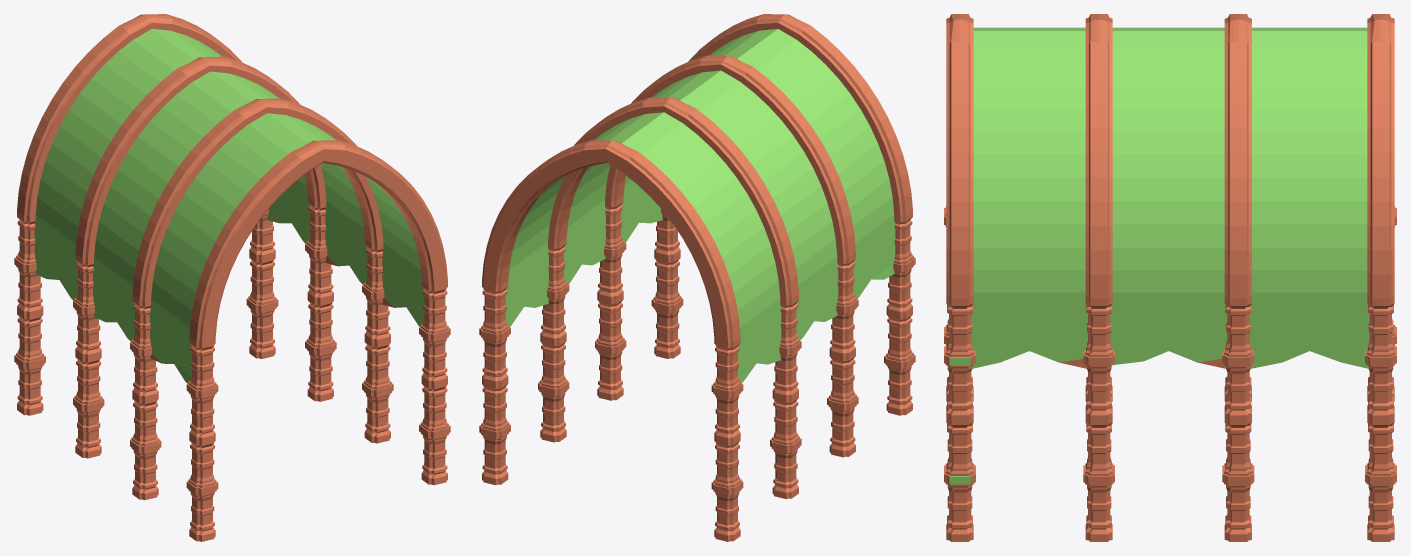
Rendered from ceiling.fbx.
3 renders of one model, left to right at view 1: azimuth 30°, elevation 25°; view 2: azimuth 150°, elevation 25°; view 3: azimuth 270°, elevation 25°, orthographic. The views are drawn at different scales.
Visible parts, largest first — view 1: building; view 2: building; view 3: building.
Part boxes in pixels (left/top/right/bottom): building: left=14, top=14, right=450, bottom=541; building: left=479, top=14, right=915, bottom=541; building: left=944, top=14, right=1396, bottom=541.
Size of the model in its own units: 154 by 211 by 194.
